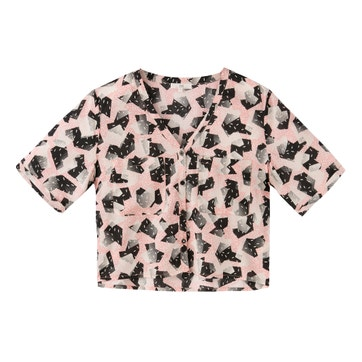C_short blouse: (11, 64, 353, 307)
